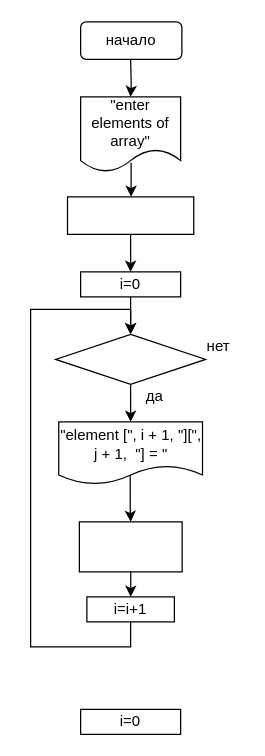
The diagram is 265 pixels wide and 756 high, and some of its shapes have lost their labels. The shapes that lost their labels are listed below. From the top down, each one's box as (x1, y1, x2, y2) in pixels, then its label:
(66, 196, 194, 234): a[3][3], m
(54, 333, 206, 384): i<n
(78, 521, 182, 572): a[i][j]
